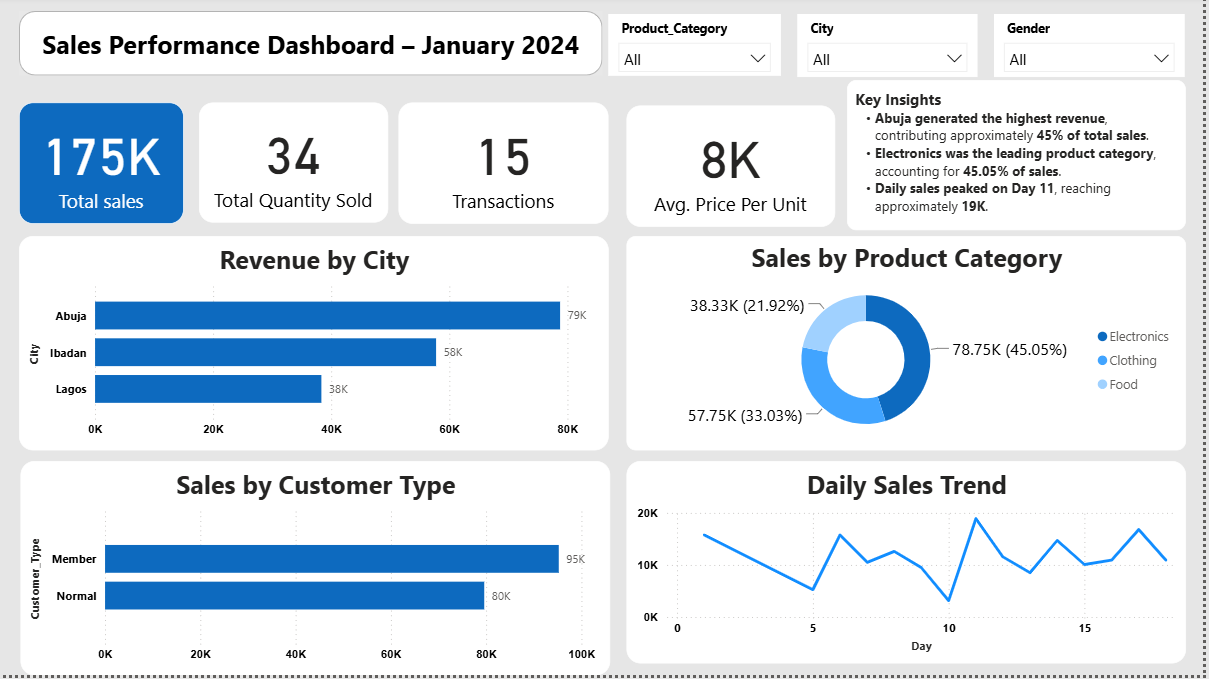

Layout of this report page (visuals, bound fields, positions):
{"tool":"powerbi","page":{"name":"Page 1","canvas":[1280,720],"ordinal":0},"visuals":[{"type":"barChart","title":"Revenue by City","fields":{"Category":["Supermarket sales.City"],"Y":["Sum(Supermarket sales.Total Sales)"]},"box":[25.4,254.5,625.1,227.5],"z":0},{"type":"slicer","fields":{"Values":["Supermarket sales.City"]},"box":[851,19.1,190.9,66.8],"z":1000},{"type":"lineChart","title":"Daily Sales Trend","fields":{"Category":["Supermarket sales.Date.Variation.Date Hierarchy.Year","Supermarket sales.Date.Variation.Date Hierarchy.Month","Supermarket sales.Date.Variation.Date Hierarchy.Day"],"Y":["Sum(Supermarket sales.Total Sales)"]},"box":[669.6,493.1,593.3,214.7],"z":2000},{"type":"slicer","fields":{"Values":["Supermarket sales.Gender"]},"box":[1059.3,19.1,202,66.8],"z":3000},{"type":"shape","box":[25.4,15.9,618.7,68.4],"z":4000},{"type":"donutChart","title":"Sales by Product Category","fields":{"Category":["Supermarket sales.Product_Category"],"Y":["Sum(Supermarket sales.Total Sales)"]},"box":[669.6,254.5,593.3,227.5],"z":5000},{"type":"card","fields":{"Values":["Supermarket sales.Total sales"]},"box":[25.4,112.9,175,128.8],"z":6000},{"type":"card","fields":{"Values":["Supermarket sales.Total qty"]},"box":[216.3,112.9,200.4,127.2],"z":7000},{"type":"card","fields":{"Values":["Supermarket sales.No of customer"]},"box":[427.9,112.9,222.7,128.8],"z":8000},{"type":"card","fields":{"Values":["Supermarket sales.Average Unit Price"]},"box":[669.6,116.1,221.1,128.8],"z":9000},{"type":"textbox","box":[903.5,89.1,359.5,159.1],"z":10000},{"type":"slicer","fields":{"Values":["Supermarket sales.Product_Category"]},"box":[650.6,19.1,182.9,65.2],"z":11000},{"type":"barChart","title":"Sales by Customer Type","fields":{"Category":["Supermarket sales.Customer_Type"],"Y":["Sum(Supermarket sales.Sales)"]},"box":[27,493.1,625.1,227.5],"z":12000}]}

Visuals, with their boxes in screenshot pixels (x1, y1, x2, y2), scaled from the page's 1280x720 canvas onto the 1209x679 screenshot:
"Revenue by City" barChart: select_region(24, 240, 614, 455)
slicer - Supermarket sales.City: select_region(804, 18, 984, 81)
"Daily Sales Trend" lineChart: select_region(632, 465, 1193, 667)
slicer - Supermarket sales.Gender: select_region(1001, 18, 1191, 81)
shape: select_region(24, 15, 608, 79)
"Sales by Product Category" donutChart: select_region(632, 240, 1193, 455)
card - Supermarket sales.Total sales: select_region(24, 106, 189, 228)
card - Supermarket sales.Total qty: select_region(204, 106, 394, 226)
card - Supermarket sales.No of customer: select_region(404, 106, 615, 228)
card - Supermarket sales.Average Unit Price: select_region(632, 109, 841, 231)
textbox: select_region(853, 84, 1193, 234)
slicer - Supermarket sales.Product_Category: select_region(615, 18, 787, 79)
"Sales by Customer Type" barChart: select_region(26, 465, 616, 678)
